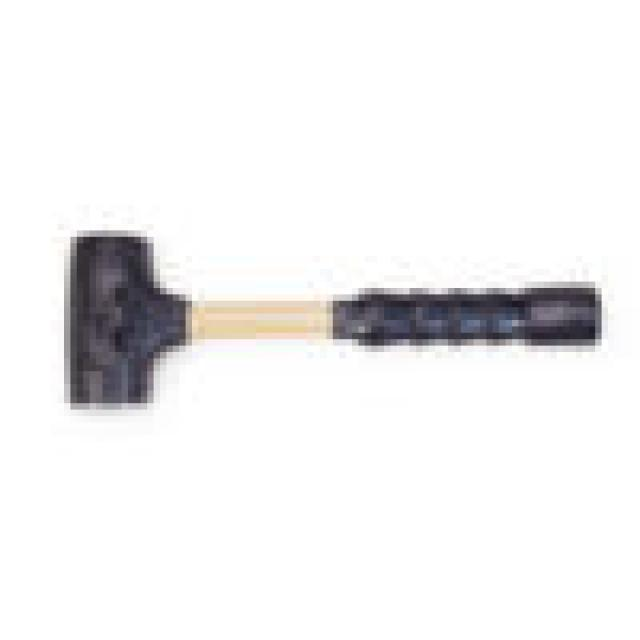hammer: (59, 197, 640, 410)
